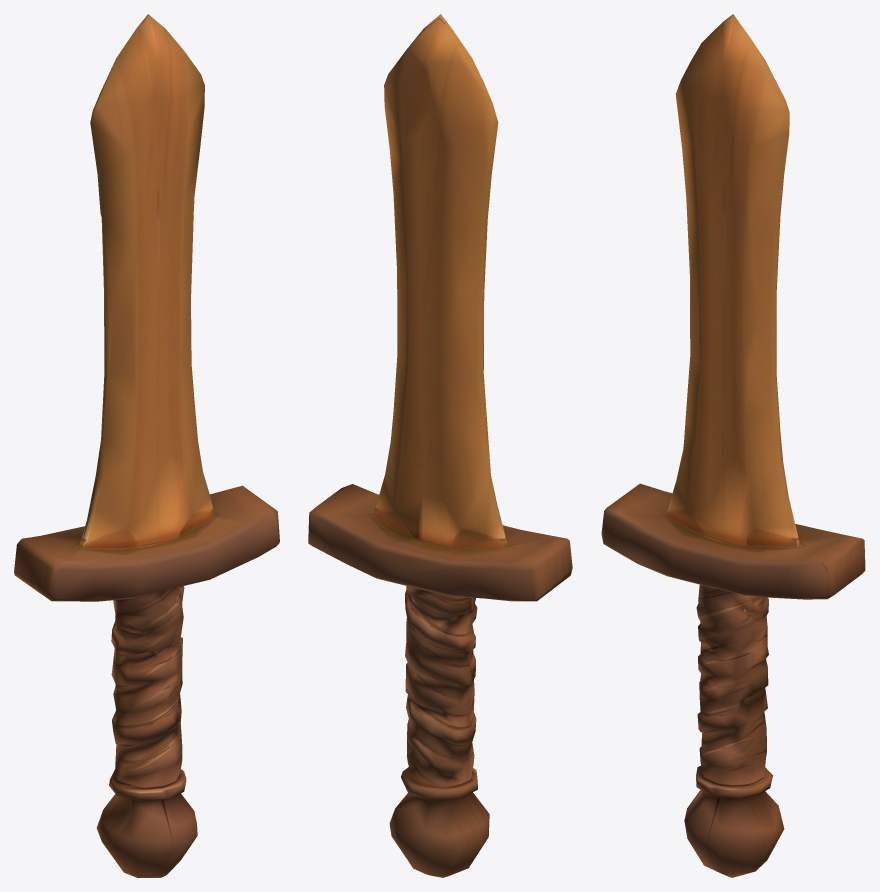
File: Espada_de_Bronze.glb
The picture shows the model from 3 angles, left to right: view 1: azimuth 30°, elevation 25°; view 2: azimuth 150°, elevation 25°; view 3: azimuth 330°, elevation 25°; orthographic projection.
Size of the model in its own units: 0.5686 by 2.01 by 0.2272.
Materials: 1 (1 with a texture image).
